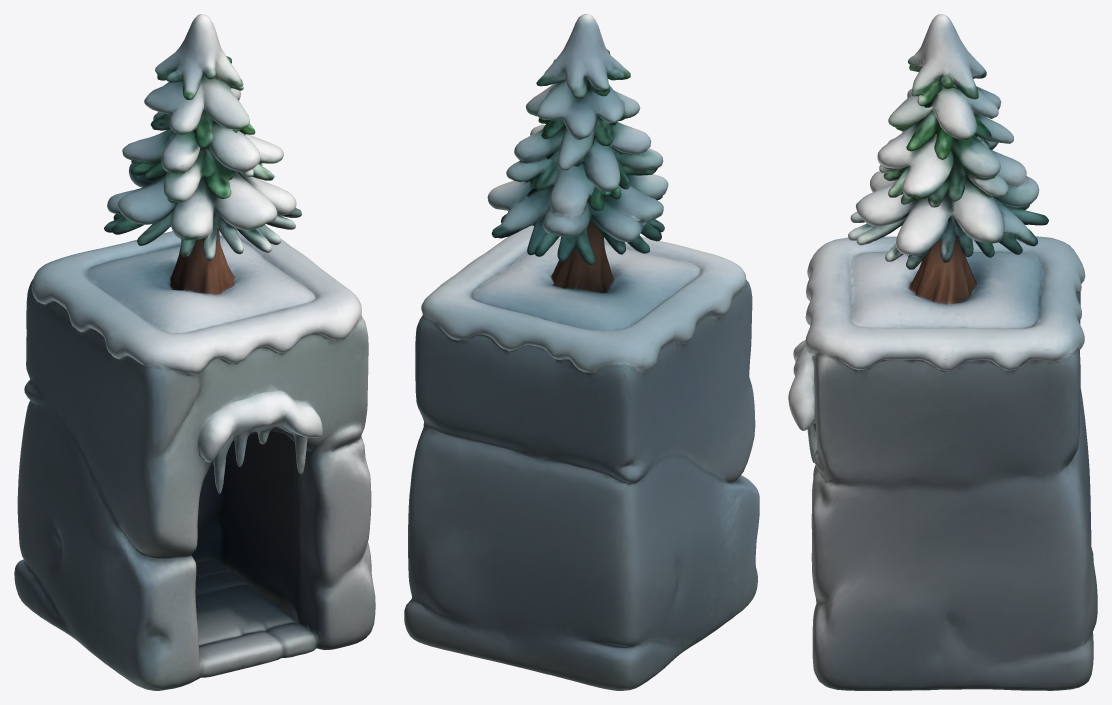
The picture shows the model from 3 angles, left to right: view 1: azimuth 30°, elevation 25°; view 2: azimuth 150°, elevation 25°; view 3: azimuth 270°, elevation 25°; orthographic projection. The views are drawn at different scales.
Visible parts, largest first — view 1: world; view 2: world; view 3: world.
Boxes of the visible parts, <box> form: world: <box>14,14,375,690</box>; world: <box>404,14,759,690</box>; world: <box>788,14,1097,690</box>.
Size of the model in its own units: 0.4086 by 1 by 0.4511.
1 material, 1 textured.
